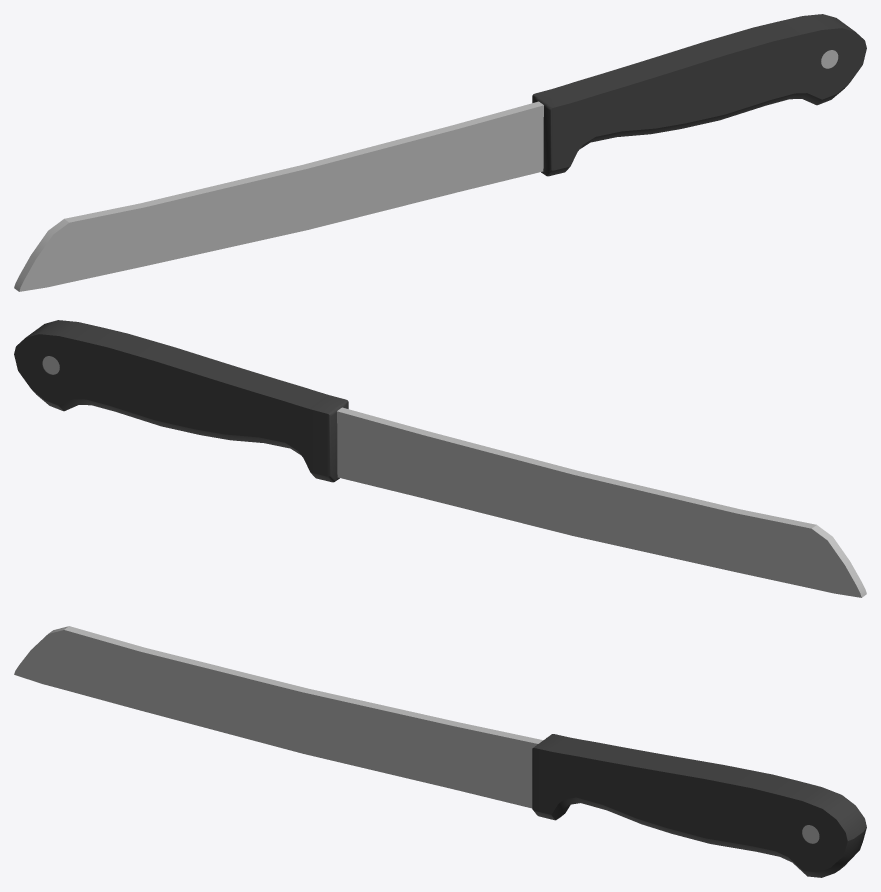
The model's file is pisau.fbx.
3 renders of one model, top to bottom at view 1: azimuth 30°, elevation 25°; view 2: azimuth 150°, elevation 25°; view 3: azimuth 330°, elevation 25°, orthographic.
Visible parts, largest first — view 1: Cube.001, Cube; view 2: Cube.001, Cube; view 3: Cube.001, Cube.
Boxes of the visible parts, bbox=[...] form: Cube.001: bbox=[14, 101, 543, 291]; Cube: bbox=[532, 14, 866, 176]; Cube.001: bbox=[337, 407, 866, 597]; Cube: bbox=[14, 320, 348, 482]; Cube.001: bbox=[14, 626, 543, 808]; Cube: bbox=[532, 734, 866, 877].
Bounding box in the file's own units: 477 × 46.09 × 18.85.
Materials: 1 (1 with a texture image).
